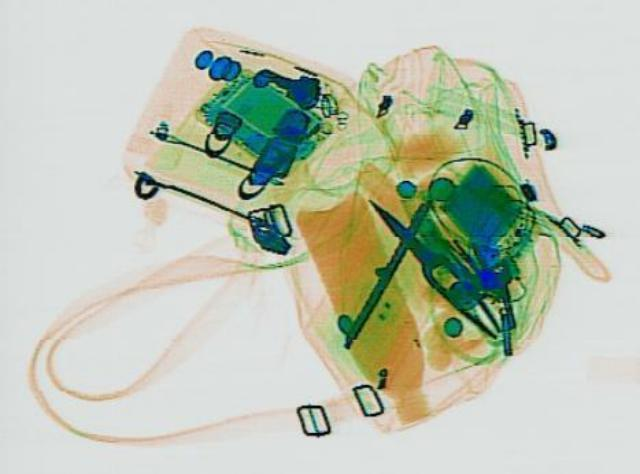Pliers: (349, 190, 516, 342)
